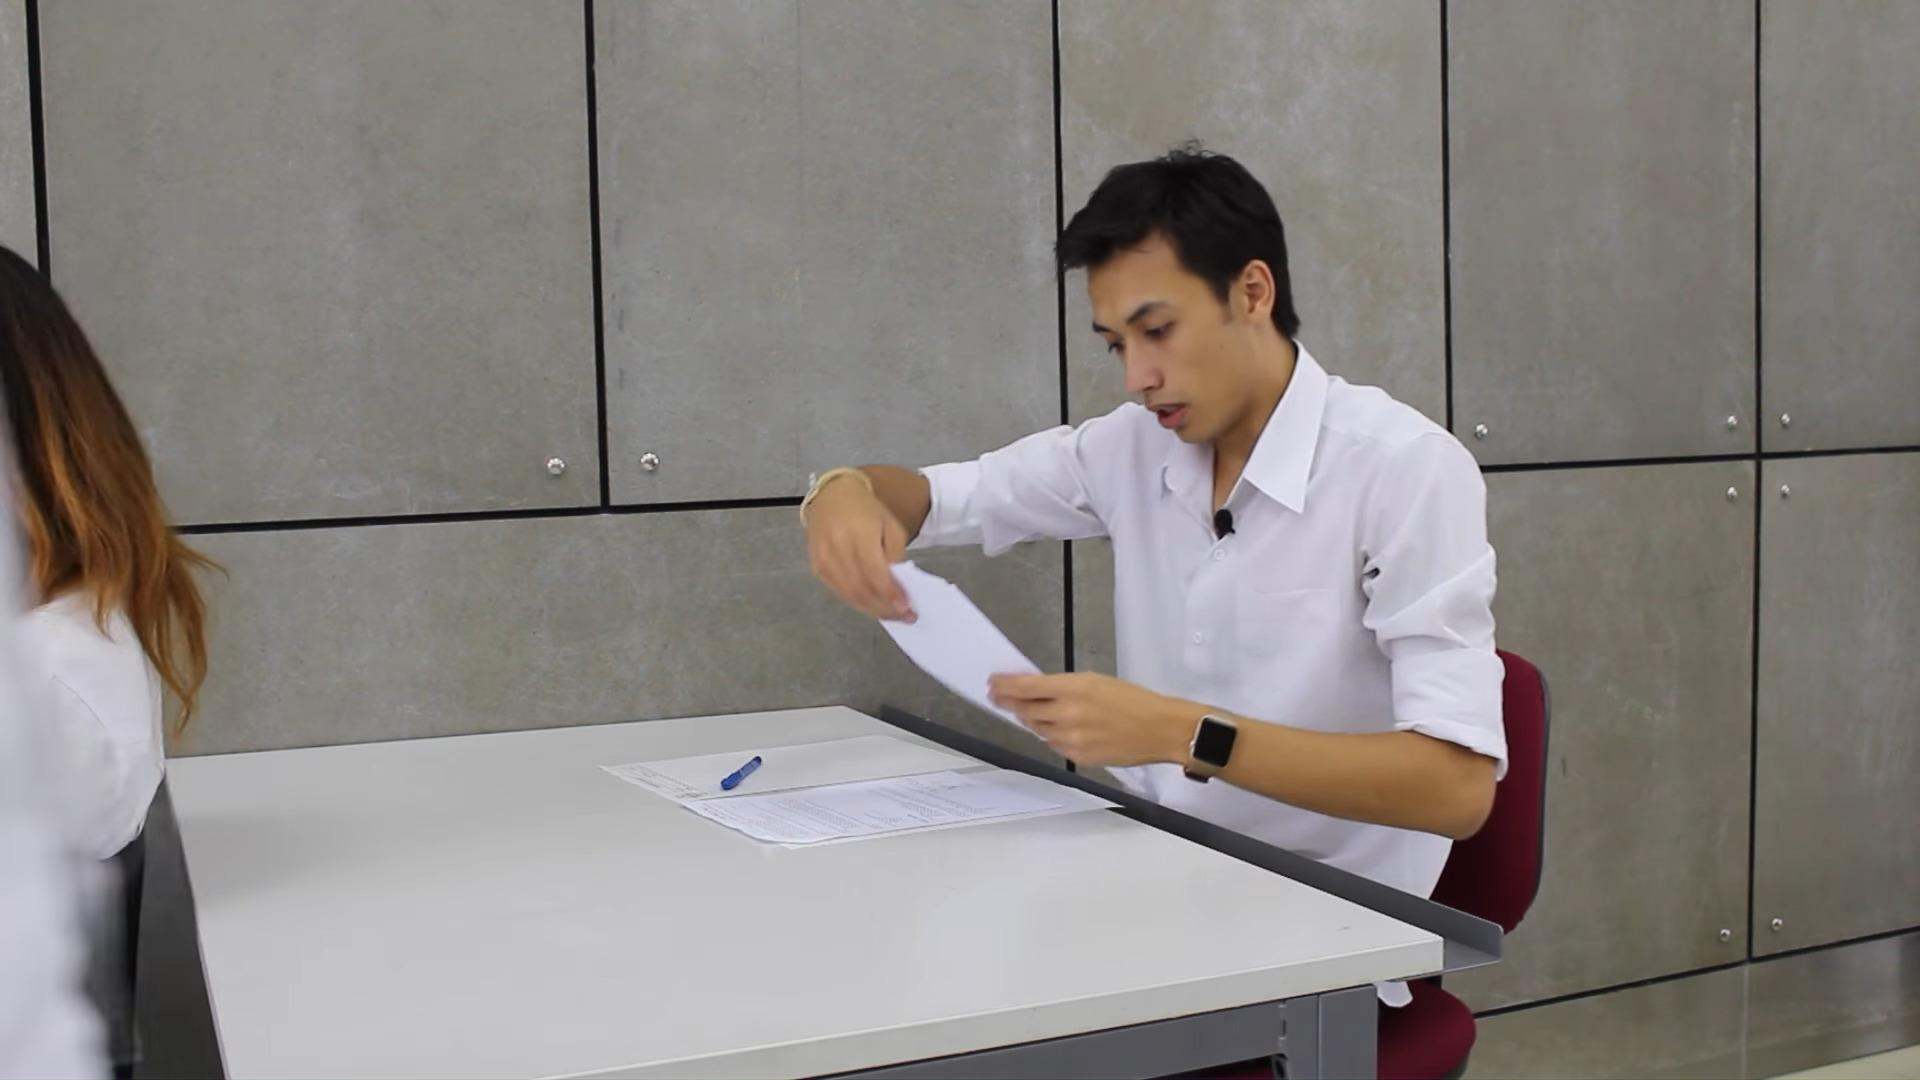good: (580, 138, 1535, 930)
